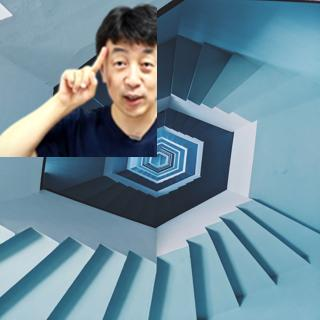IRRITATED: (59, 45, 109, 108)
